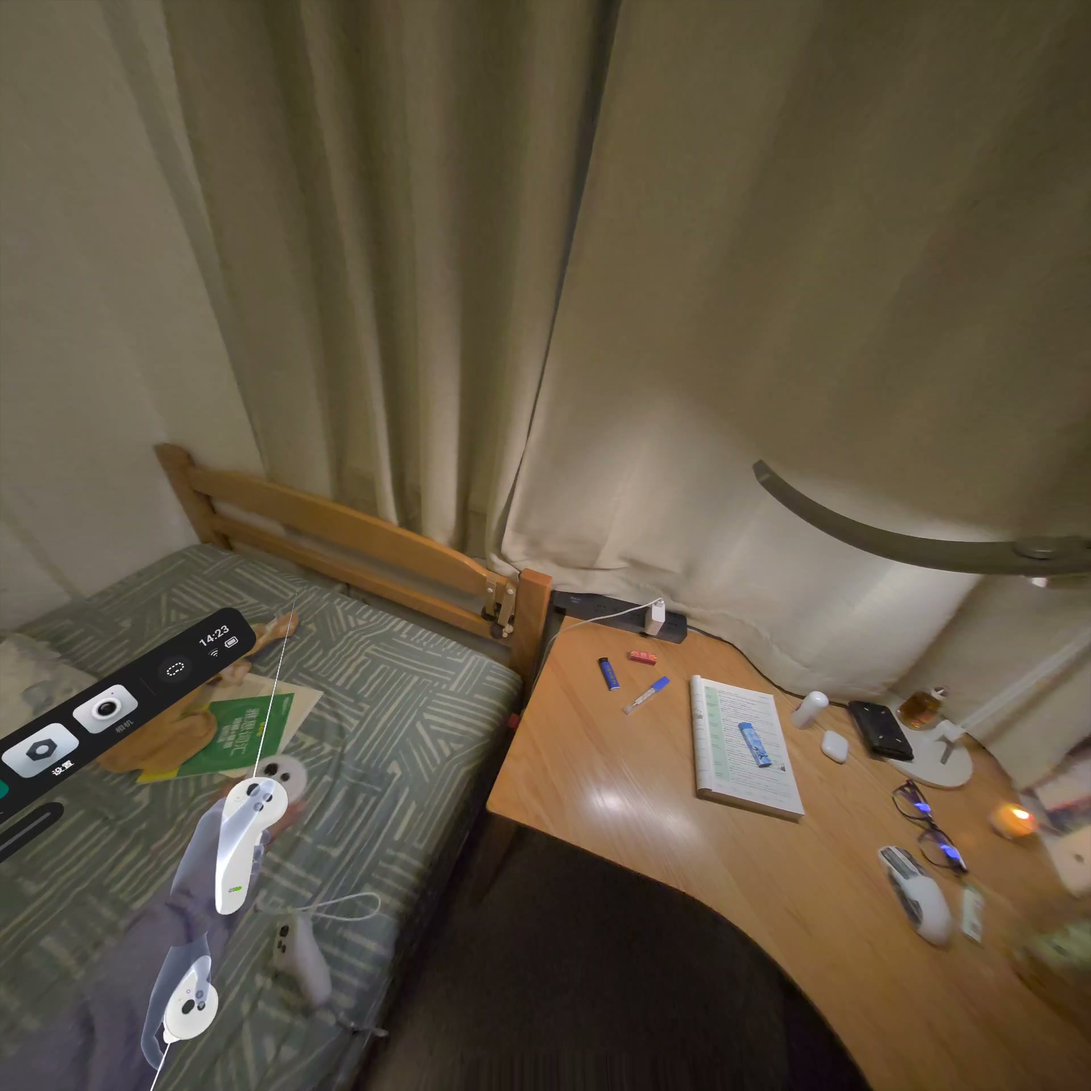lighter: (739, 722, 771, 768)
